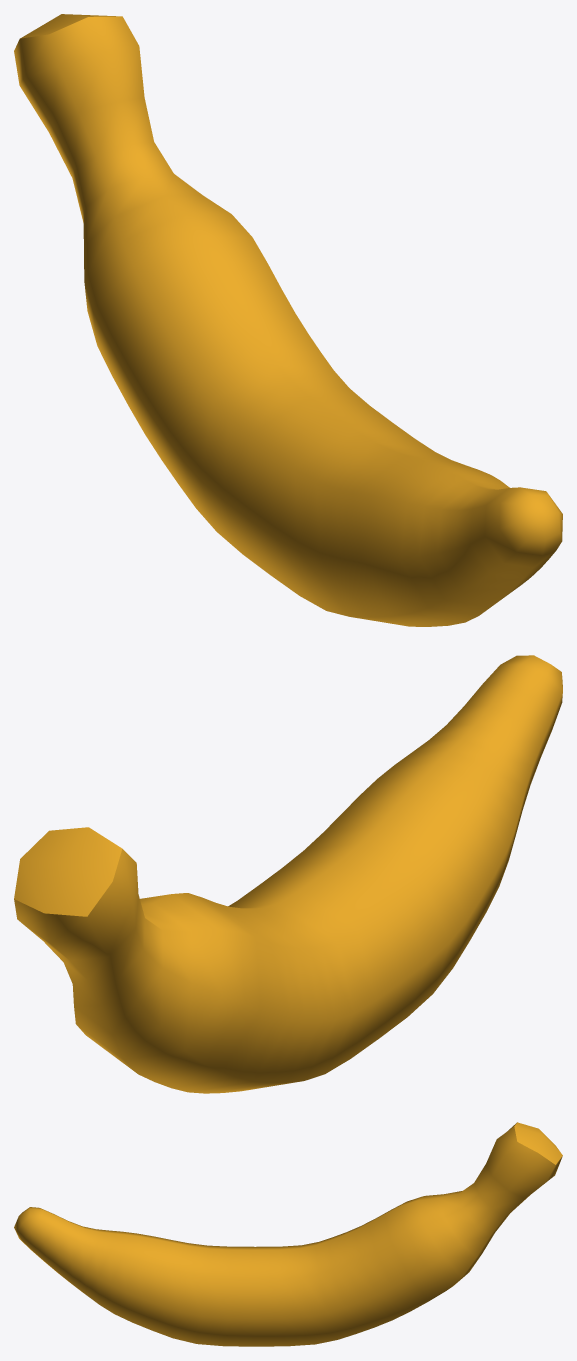
The model's file is banana.fbx.
3 renders of one model, top to bottom at view 1: azimuth 30°, elevation 25°; view 2: azimuth 150°, elevation 25°; view 3: azimuth 270°, elevation 25°, orthographic. The views are drawn at different scales.
Parts seen in each view (by area): view 1: Cube; view 2: Cube; view 3: Cube.
Part boxes in pixels (x1,y1,x2,y2): Cube: (14, 14, 562, 626); Cube: (14, 655, 562, 1093); Cube: (14, 1122, 562, 1346).
Size of the model in its own units: 183 by 418 by 964.
